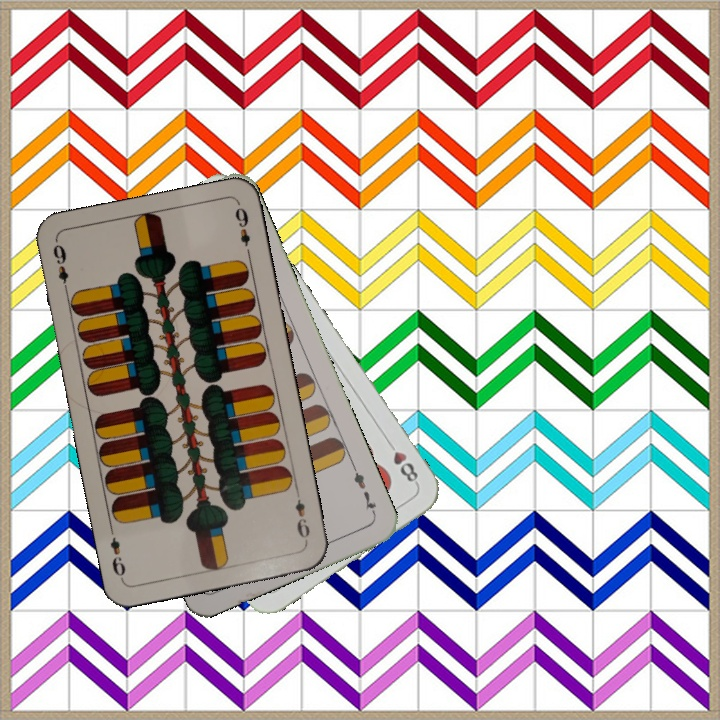E7: (348, 462, 379, 519)
E9: (291, 486, 313, 545), (49, 240, 71, 297)
H8: (382, 436, 421, 488)
